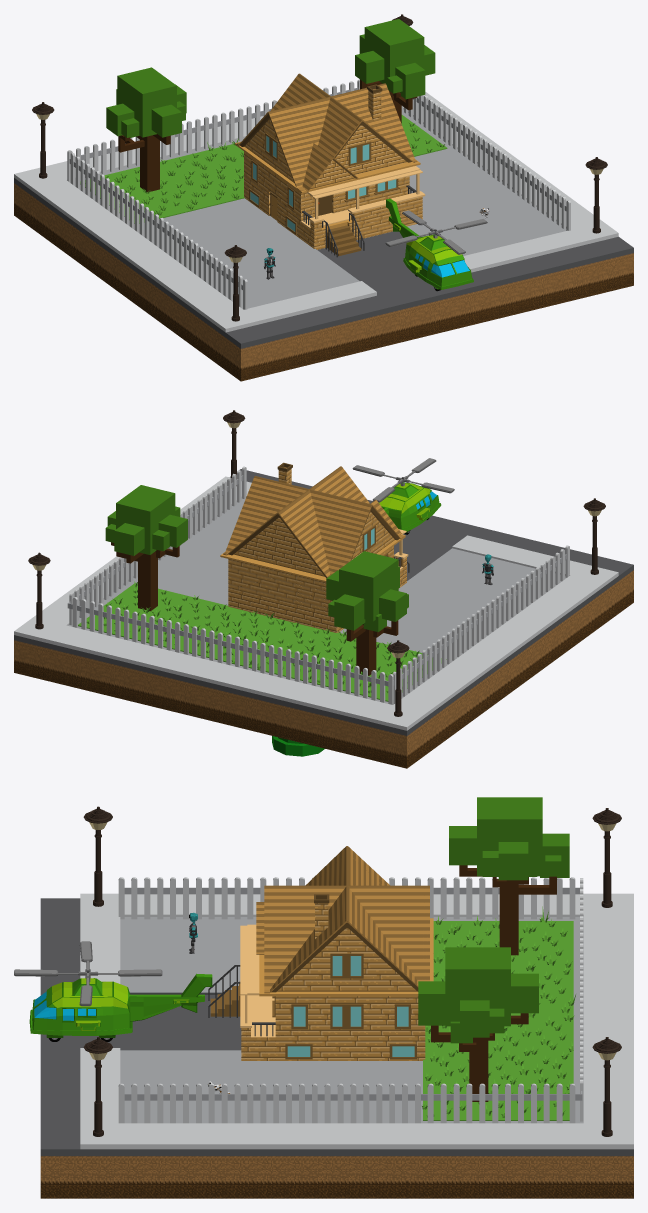
The picture shows the model from 3 angles, top to bottom: view 1: azimuth 30°, elevation 25°; view 2: azimuth 150°, elevation 25°; view 3: azimuth 270°, elevation 25°; orthographic projection. The views are drawn at different scales.
Parts seen in each view (by area): view 1: Cube.004, Cube.508, VEHICLES_HELICOPTER; view 2: Cube.004, Cube.508, VEHICLES_HELICOPTER, UNDERGROUND_PIPES; view 3: Cube.004, Cube.508, VEHICLES_HELICOPTER.
Part boxes in pixels (x1,y1,x2,y2): Cube.004: (14,14,633,381); Cube.508: (235,73,425,257); VEHICLES_HELICOPTER: (385,198,487,291); Cube.004: (14,410,633,768); Cube.508: (220,462,409,632); VEHICLES_HELICOPTER: (352,458,454,534); UNDERGROUND_PIPES: (272,736,324,756); Cube.004: (40,797,633,1198); Cube.508: (208,846,433,1060); VEHICLES_HELICOPTER: (14,941,212,1041).
Size of the model in its own units: 4000 by 2184 by 4179.
Materials: 36 (4 with a texture image).
